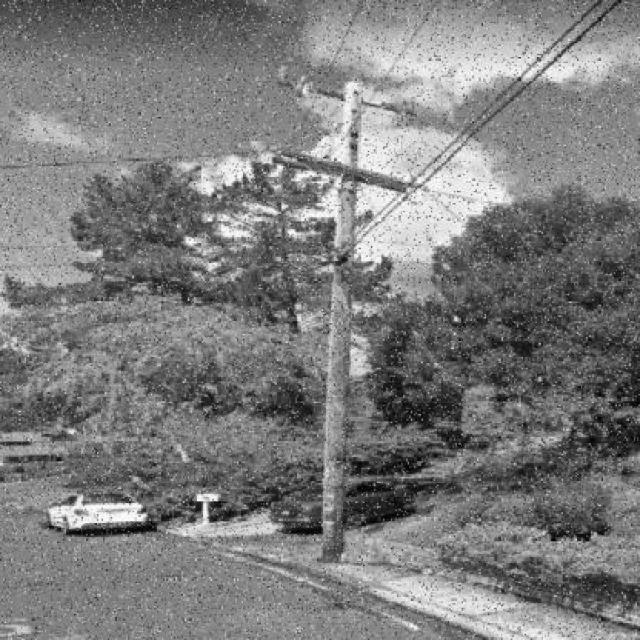pole: (246, 39, 431, 576)
